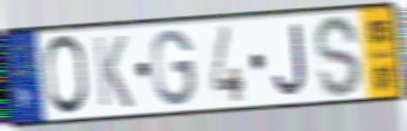4: (209, 23, 247, 105)
G: (149, 27, 197, 110)
J: (271, 20, 309, 99)
K: (91, 34, 136, 111)
O: (43, 32, 91, 118)
S: (312, 13, 364, 101)
